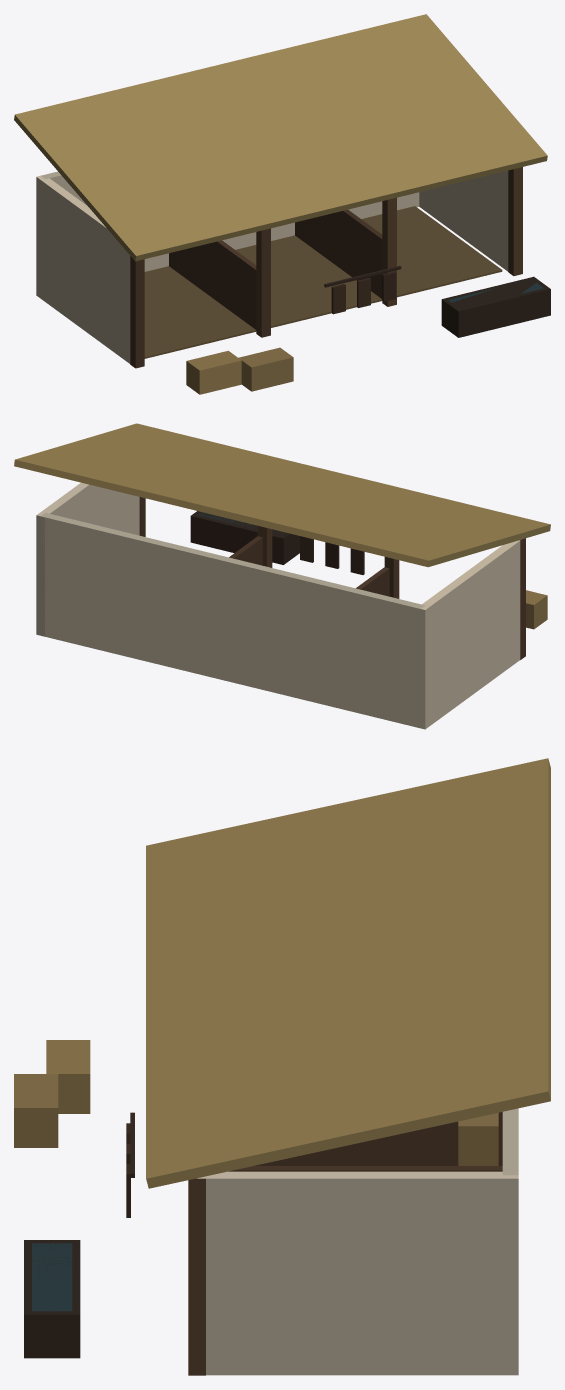
The model's file is walk_sunborn_stable.glb.
The picture shows the model from 3 angles, top to bottom: view 1: azimuth 30°, elevation 25°; view 2: azimuth 150°, elevation 25°; view 3: azimuth 270°, elevation 25°; orthographic projection. The views are drawn at different scales.
Parts seen in each view (by area): view 1: walk_sunborn_stable_roof, walk_sunborn_stable; view 2: walk_sunborn_stable, walk_sunborn_stable_roof; view 3: walk_sunborn_stable_roof, walk_sunborn_stable.
Boxes of the visible parts, <box> form: walk_sunborn_stable_roof: <box>14,14,547,261</box>; walk_sunborn_stable: <box>36,167,550,394</box>; walk_sunborn_stable: <box>36,482,547,729</box>; walk_sunborn_stable_roof: <box>14,423,550,567</box>; walk_sunborn_stable_roof: <box>146,758,550,1188</box>; walk_sunborn_stable: <box>14,1040,518,1375</box>.
Size of what is drawn, in the model's own units: 9.8 by 4.04 by 6.68.
1 material, 1 textured.
